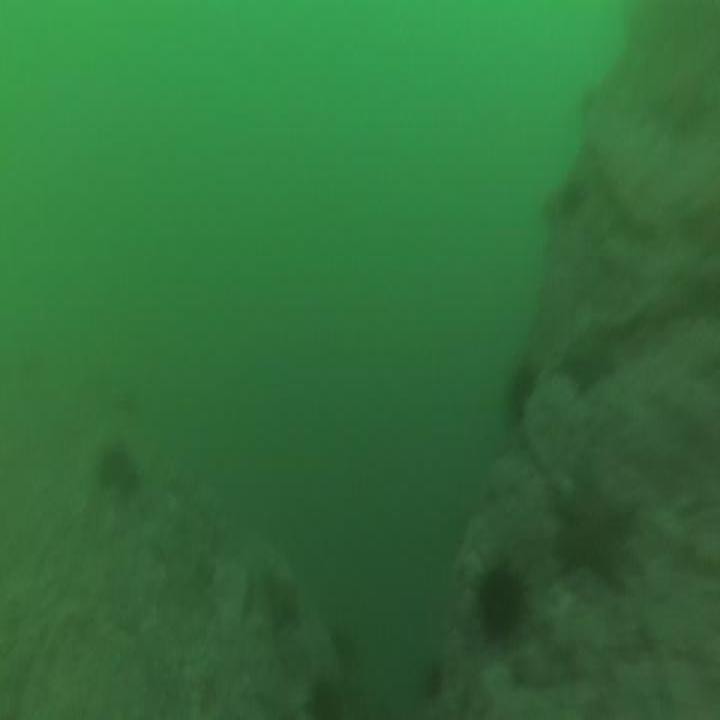echinus: (472, 557, 528, 647), (93, 430, 138, 503), (503, 363, 538, 426)
starfish: (552, 462, 641, 601)
